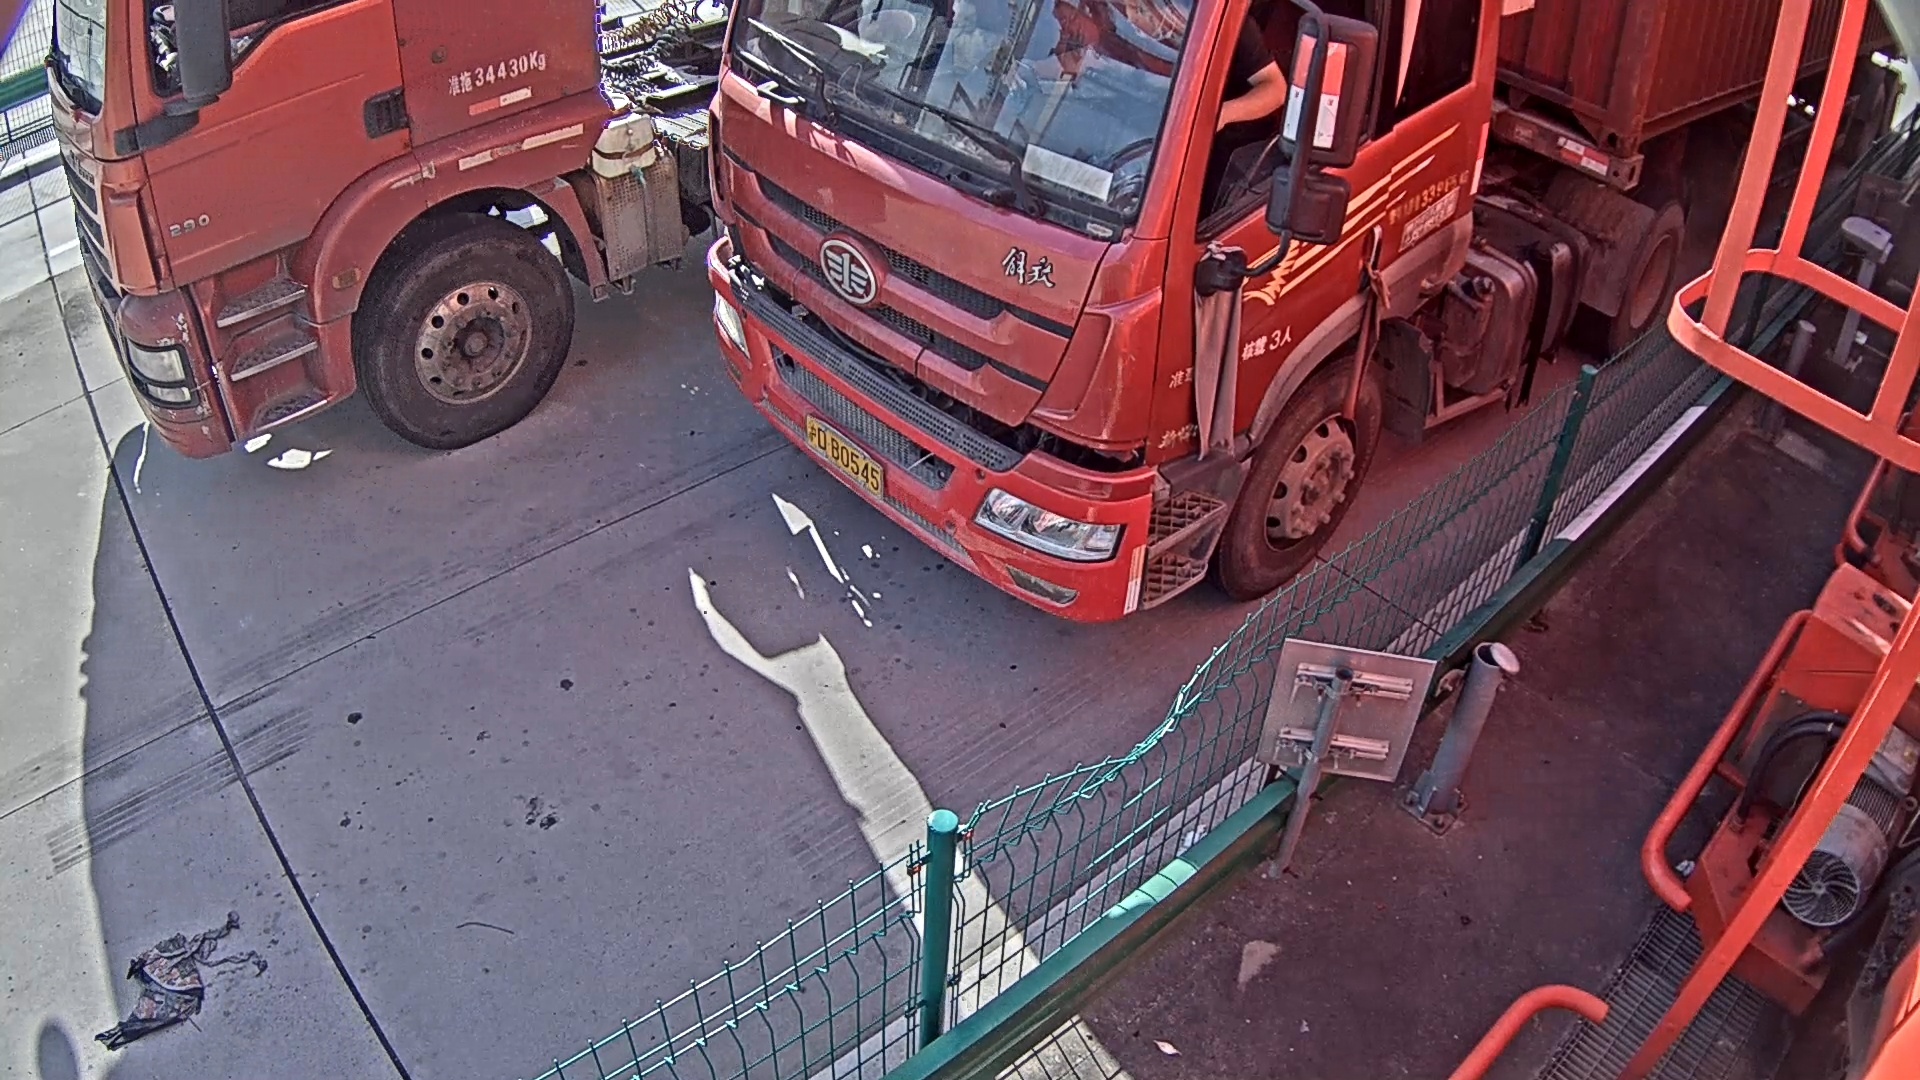head: (706, 1, 1487, 617)
plate: (797, 414, 889, 500)
